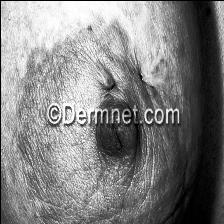Non-Cancerous Skin Condition: (60, 8, 152, 97), (103, 134, 199, 190)
